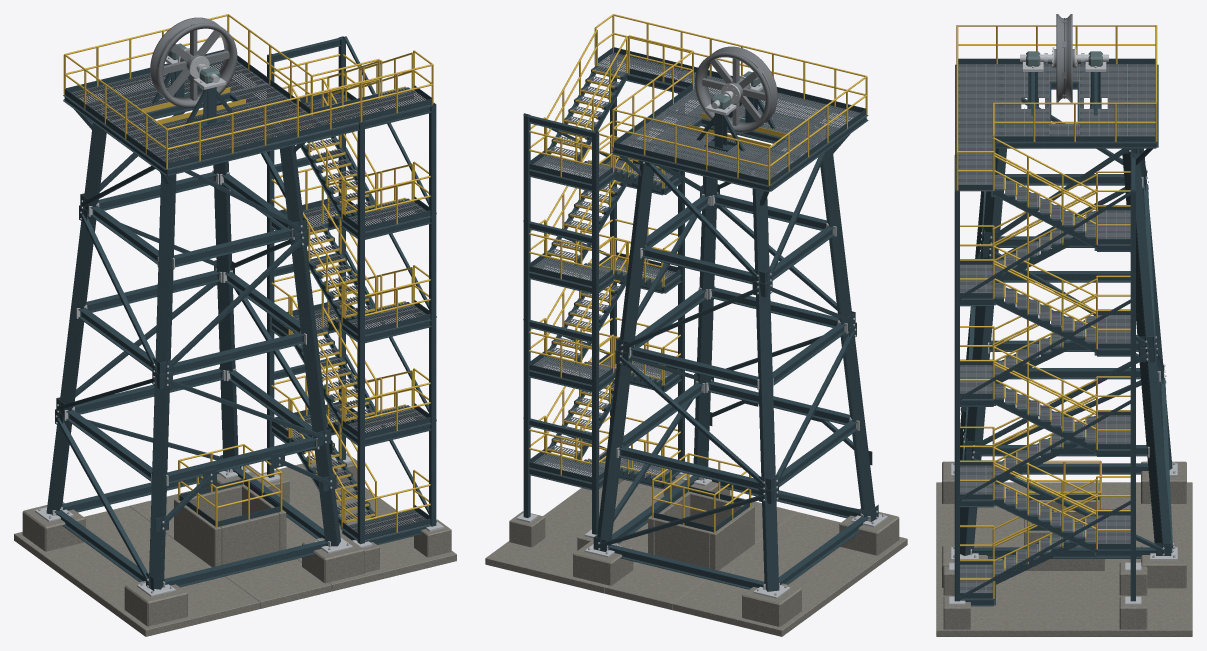
The model's file is mine-headframe.glb.
3 renders of one model, left to right at view 1: azimuth 30°, elevation 25°; view 2: azimuth 150°, elevation 25°; view 3: azimuth 270°, elevation 25°, orthographic. The views are drawn at different scales.
Visible parts, largest first — view 1: Painted_structural_steel, Foundation_concrete, Safety_ochre_coating, Galvanized_grating, Cast_sheave_steel, Machined_shaft_and_fasteners; view 2: Painted_structural_steel, Foundation_concrete, Safety_ochre_coating, Galvanized_grating, Cast_sheave_steel, Machined_shaft_and_fasteners; view 3: Painted_structural_steel, Galvanized_grating, Foundation_concrete, Safety_ochre_coating, Machined_shaft_and_fasteners, Cast_sheave_steel, Bearing_housings.
Boxes of the visible parts, x1,y1,x2,y2 form: Painted_structural_steel: [46, 36, 436, 590]; Foundation_concrete: [14, 453, 456, 636]; Safety_ochre_coating: [63, 14, 433, 532]; Galvanized_grating: [64, 60, 432, 540]; Cast_sheave_steel: [150, 17, 237, 108]; Machined_shaft_and_fasteners: [35, 48, 443, 596]; Painted_structural_steel: [523, 47, 878, 591]; Foundation_concrete: [485, 451, 907, 636]; Safety_ochre_coating: [529, 14, 867, 532]; Galvanized_grating: [529, 52, 866, 482]; Cast_sheave_steel: [694, 46, 777, 133]; Machined_shaft_and_fasteners: [516, 75, 887, 598]; Painted_structural_steel: [954, 58, 1172, 606]; Galvanized_grating: [958, 64, 1155, 598]; Foundation_concrete: [936, 461, 1192, 636]; Safety_ochre_coating: [956, 25, 1157, 598]; Machined_shaft_and_fasteners: [949, 47, 1177, 605]; Cast_sheave_steel: [1054, 14, 1074, 102]; Bearing_housings: [1026, 51, 1102, 66].
Size of the model in its own units: 9.15 by 15.76 by 6.7.
Materials: 9 (3 with a texture image).
